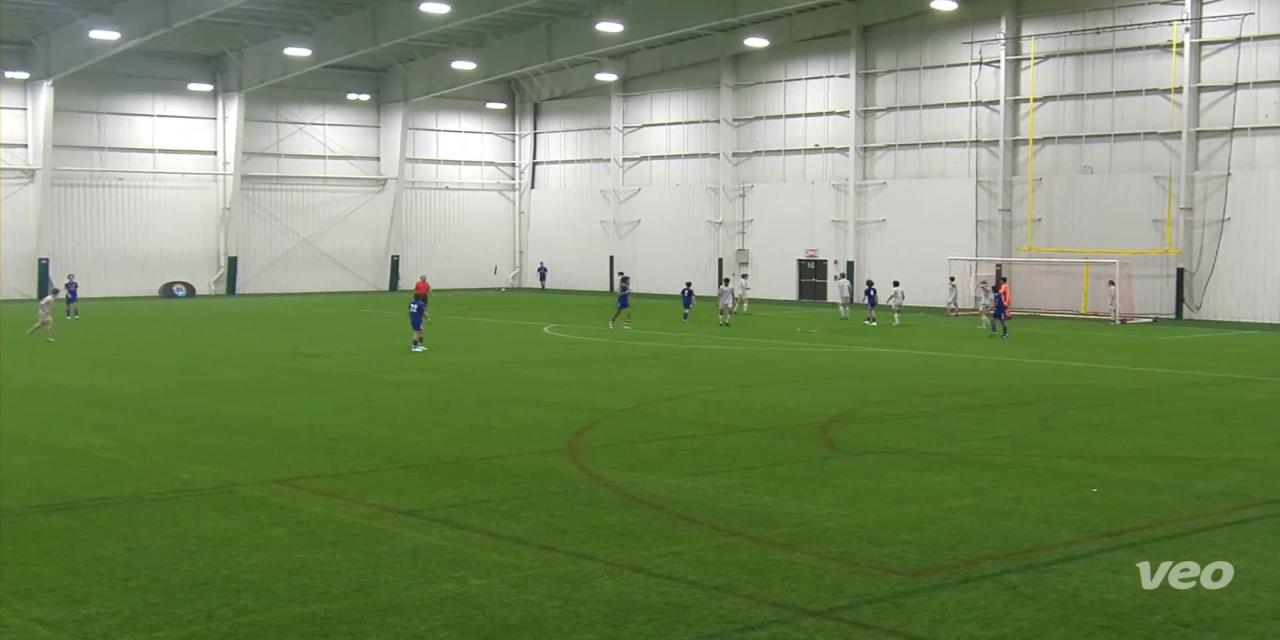goal: (937, 251, 1153, 329)
sports ball: (498, 280, 508, 294)
